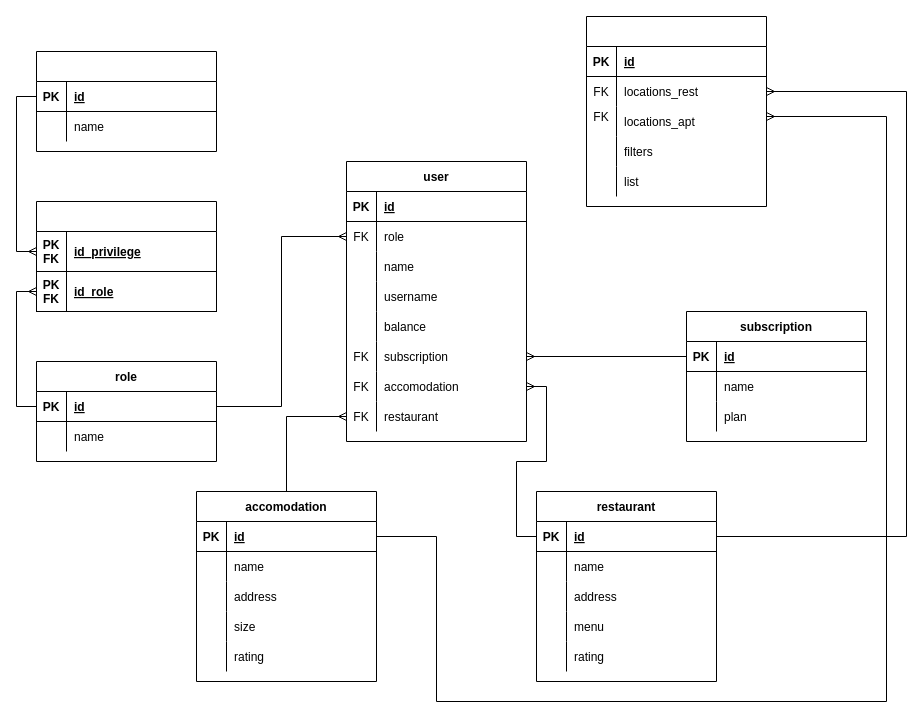
Some shapes in this 923 by 718 pixel diagram are drawn without their labels. The box of each missing label's shape, as (x1, y1, x2, y2) in pixels:
interactive map: (586, 16, 766, 206)
privilege: (36, 50, 216, 152)
roles_privileges: (36, 200, 216, 312)
